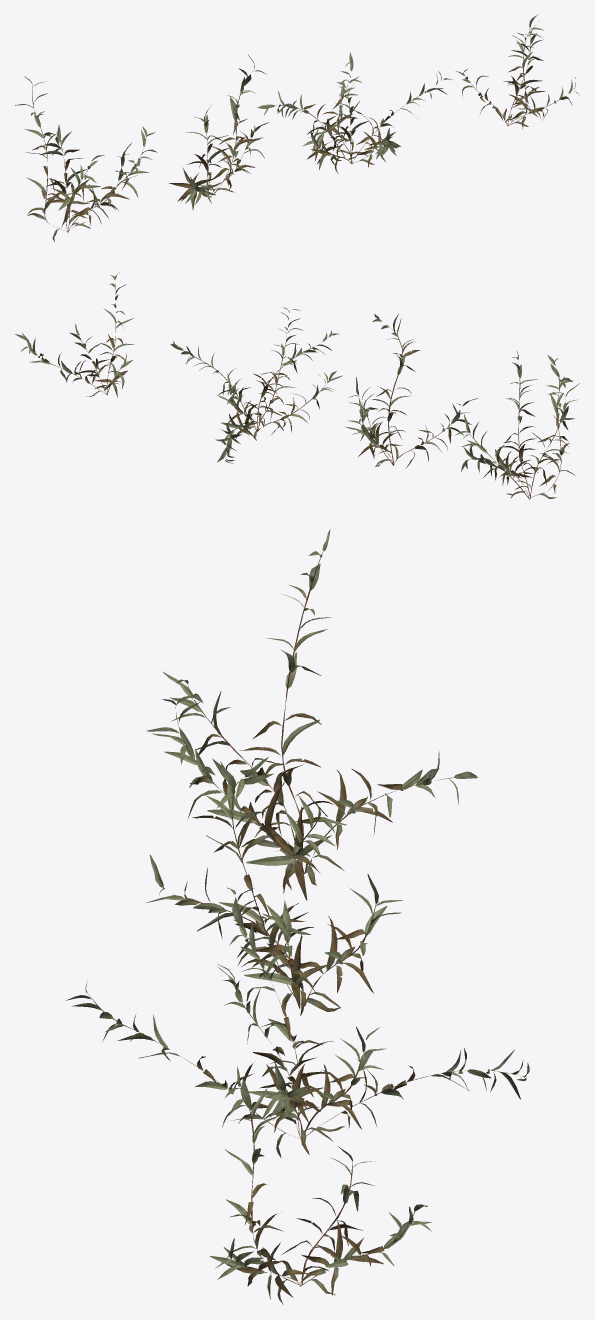
The model's file is shrub_02.glb.
3 renders of one model, top to bottom at view 1: azimuth 30°, elevation 25°; view 2: azimuth 150°, elevation 25°; view 3: azimuth 270°, elevation 25°, orthographic. The views are drawn at different scales.
Parts seen in each view (by area): view 1: shrub_02_a; view 2: shrub_02_a; view 3: shrub_02_a.
Boxes of the visible parts, box(x1,y1,x2,y2) form: shrub_02_a: box(15, 14, 579, 241); shrub_02_a: box(15, 272, 579, 499); shrub_02_a: box(66, 529, 529, 1304).
Bounding box in the file's own units: 6.05 × 1.7 × 2.28.
1 material, 1 textured.
